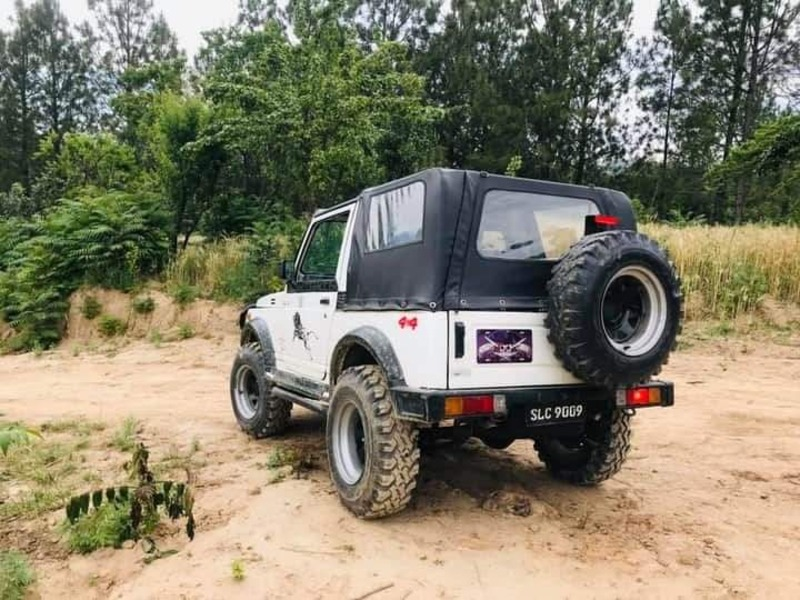License Plate: (525, 400, 592, 430)
